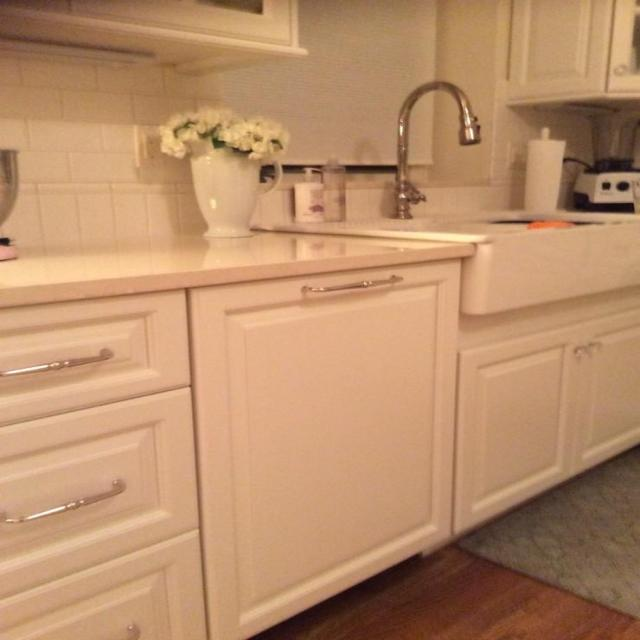dishwasher: (177, 242, 506, 624)
